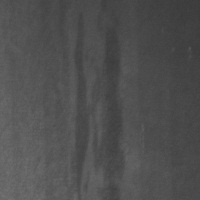inclusion: (73, 10, 125, 199)
